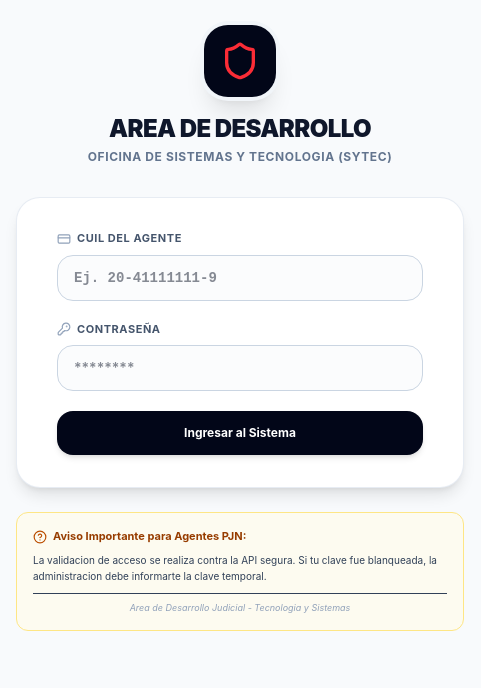
Test: authenticated bootstrap failures › keeps authentication errors on the login screen and does not create a session
In the field labelled "CUIL del Agente": (240, 278) [57,255,423,301], type "20123456789"
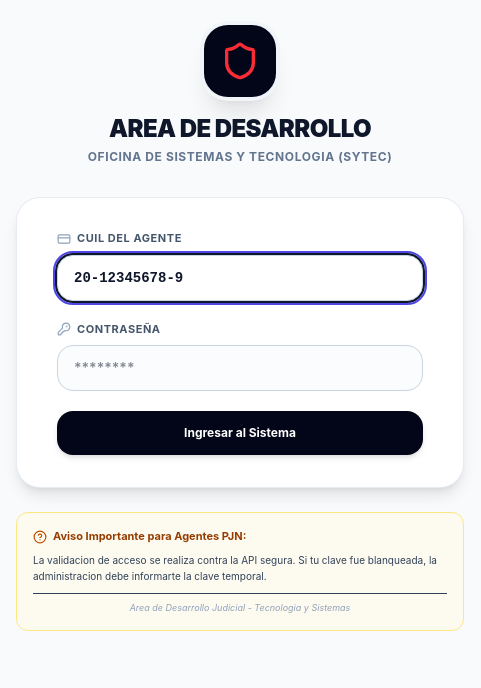
In the password field labelled "Contraseña": (240, 368) [57,345,423,391], type "wrong-password"
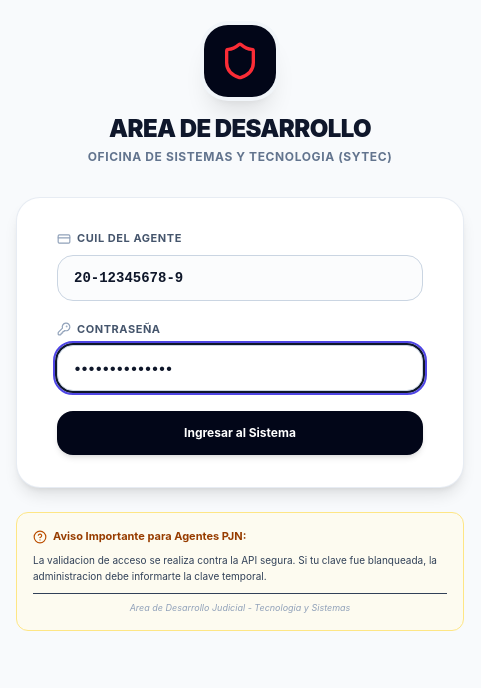
Click the button "Ingresar al Sistema": (240, 433) [57,411,423,455]
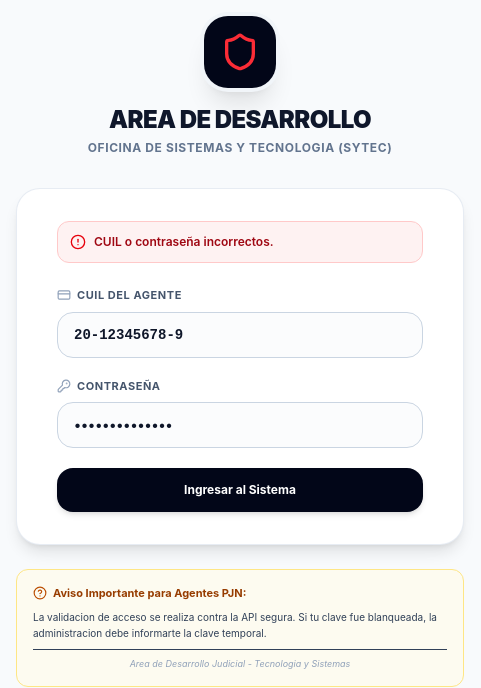
Expected: the text "CUIL o contraseña incorrectos." is shown, [94,234,274,250]
